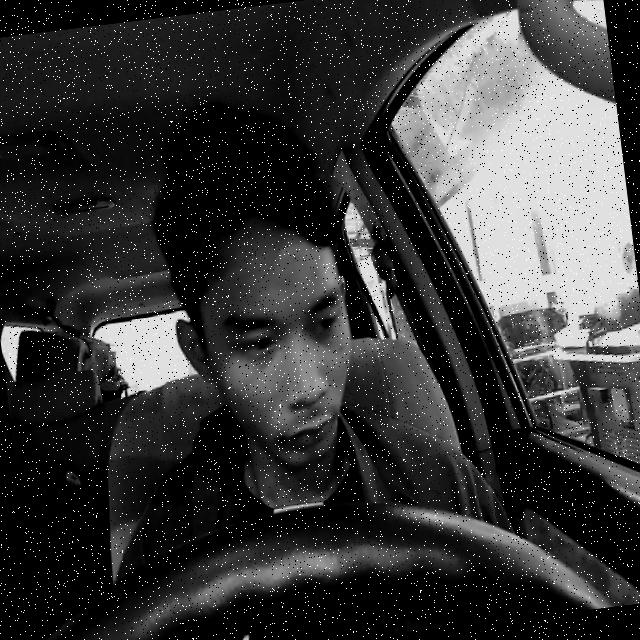seeing_right: (159, 198, 368, 481)
